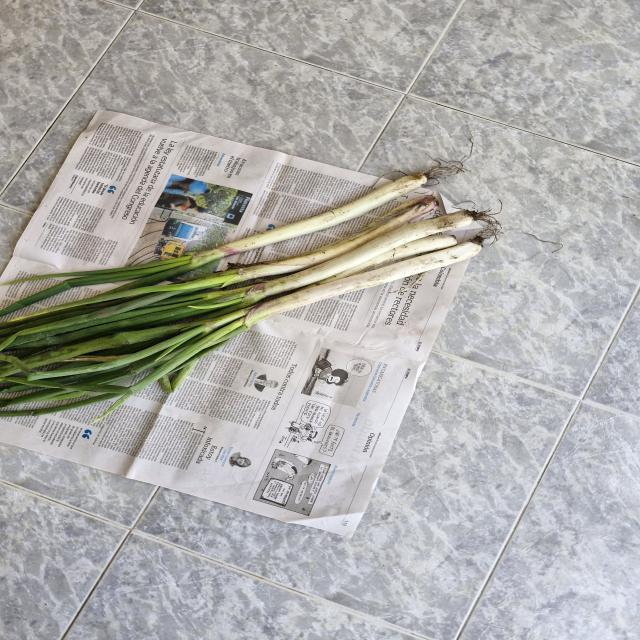green_onion: (0, 238, 490, 423), (0, 167, 442, 325)
